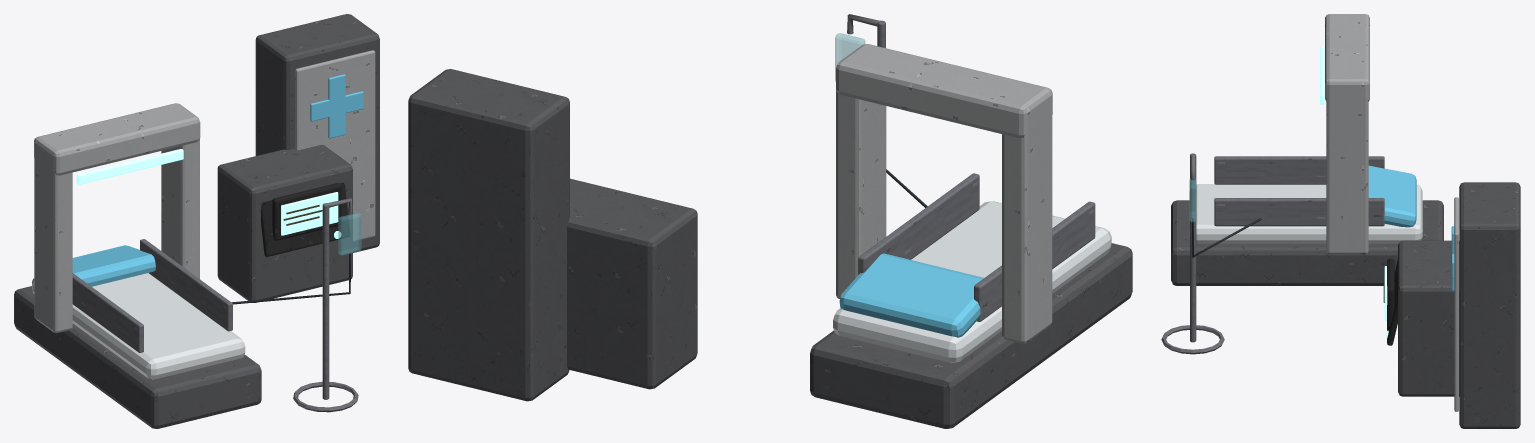
Rendered from department_medical_dressing.glb.
3 renders of one model, left to right at view 1: azimuth 30°, elevation 25°; view 2: azimuth 150°, elevation 25°; view 3: azimuth 270°, elevation 25°, orthographic. The views are drawn at different scales.
Visible parts, largest first — view 1: DEPT_Medical__Medical_Console_Body, DEPT_Medical__Bed_Base, DEPT_Medical__Supply_Cabinet, DEPT_Medical__Bed_Mattress, DEPT_Medical__Supply_Door, DEPT_Medical__Scanner_Crown, DEPT_Medical__Scanner_Post_-1.08, DEPT_Medical__Scanner_Post_-0.02, DEPT_Medical__Bed_Rail_R, DEPT_Medical__Bed_Headrest, DEPT_Medical__Bed_Rail_L, DEPT_Medical__Medical_Console_Face (+9 smaller); view 2: DEPT_Medical__Supply_Cabinet, DEPT_Medical__Medical_Console_Body, DEPT_Medical__Bed_Base, DEPT_Medical__Scanner_Crown, DEPT_Medical__Scanner_Post_-1.08, DEPT_Medical__Bed_Mattress, DEPT_Medical__Scanner_Post_-0.02, DEPT_Medical__Bed_Headrest, DEPT_Medical__Bed_Rail_R, DEPT_Medical__Bed_Rail_L; view 3: DEPT_Medical__Supply_Cabinet, DEPT_Medical__Bed_Base, DEPT_Medical__Medical_Console_Body, DEPT_Medical__Scanner_Post_-0.02, DEPT_Medical__Bed_Mattress, DEPT_Medical__Scanner_Crown, DEPT_Medical__Bed_Rail_R, DEPT_Medical__Bed_Rail_L, DEPT_Medical__Bed_Headrest, DEPT_Medical__IV_Post, DEPT_Medical__Supply_Door, DEPT_Medical__IV_Base (+2 smaller).
Boxes of the visible parts, x1,y1,x2,y2 form: DEPT_Medical__Medical_Console_Body: [217, 144, 352, 302]; DEPT_Medical__Bed_Base: [14, 286, 261, 428]; DEPT_Medical__Supply_Cabinet: [255, 14, 379, 252]; DEPT_Medical__Bed_Mattress: [32, 273, 245, 379]; DEPT_Medical__Supply_Door: [295, 50, 375, 241]; DEPT_Medical__Scanner_Crown: [34, 103, 200, 175]; DEPT_Medical__Scanner_Post_-1.08: [34, 157, 72, 333]; DEPT_Medical__Scanner_Post_-0.02: [161, 139, 199, 278]; DEPT_Medical__Bed_Rail_R: [140, 239, 232, 331]; DEPT_Medical__Bed_Headrest: [72, 245, 155, 286]; DEPT_Medical__Bed_Rail_L: [72, 273, 143, 352]; DEPT_Medical__Medical_Console_Face: [261, 182, 350, 256]; DEPT_Medical__Supply_Cabinet: [408, 69, 569, 401]; DEPT_Medical__Medical_Console_Body: [567, 178, 697, 389]; DEPT_Medical__Bed_Base: [810, 243, 1132, 428]; DEPT_Medical__Scanner_Crown: [836, 44, 1052, 138]; DEPT_Medical__Scanner_Post_-1.08: [1002, 115, 1052, 343]; DEPT_Medical__Bed_Mattress: [833, 201, 1111, 362]; DEPT_Medical__Scanner_Post_-0.02: [836, 90, 886, 298]; DEPT_Medical__Bed_Headrest: [839, 253, 983, 337]; DEPT_Medical__Bed_Rail_R: [858, 173, 979, 274]; DEPT_Medical__Bed_Rail_L: [974, 201, 1095, 321]; DEPT_Medical__Supply_Cabinet: [1459, 182, 1520, 428]; DEPT_Medical__Bed_Base: [1171, 200, 1443, 285]; DEPT_Medical__Medical_Console_Body: [1398, 240, 1459, 396]; DEPT_Medical__Scanner_Post_-0.02: [1326, 99, 1368, 254]; DEPT_Medical__Bed_Mattress: [1189, 184, 1422, 243]; DEPT_Medical__Scanner_Crown: [1325, 14, 1369, 101]; DEPT_Medical__Bed_Rail_R: [1214, 198, 1384, 226]; DEPT_Medical__Bed_Rail_L: [1214, 156, 1384, 184]; DEPT_Medical__Bed_Headrest: [1368, 165, 1416, 227]; DEPT_Medical__IV_Post: [1190, 153, 1196, 342]; DEPT_Medical__Supply_Door: [1454, 197, 1458, 411]; DEPT_Medical__IV_Base: [1161, 325, 1224, 354].
Bounding box in the file's own units: 3.3 × 1.95 × 2.7.
Materials: 10 (4 with a texture image).
